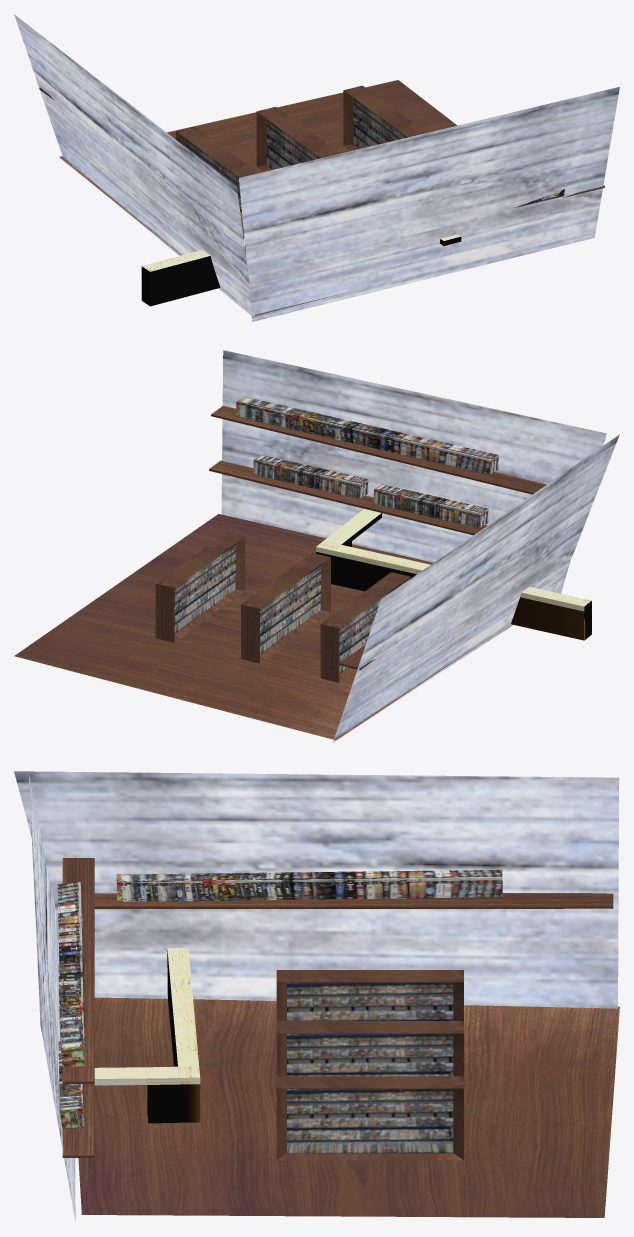
The model's file is GameStore.glb.
The picture shows the model from 3 angles, top to bottom: view 1: azimuth 30°, elevation 25°; view 2: azimuth 150°, elevation 25°; view 3: azimuth 270°, elevation 25°; orthographic projection. The views are drawn at different scales.
Parts seen in each view (by area): view 1: Plane.002, Plane.001, Plane, Cube.007, Shelf.004, Shelf.003, Inside.010, Inside.007, Shelf.002, Inside.006; view 2: Plane.002, Plane, Plane.001, Cube.007, Cube.005, Shelf.004, Shelf.003, Cube.006, Inside.010, Inside.007, Shelf.002, Cube.004 (+3 smaller); view 3: Plane.001, Plane, Cube.001, Inside.009, Inside.008, Cube.007, Inside.001, Cube, Plane.002, Shelf.004, Cube.005, Cube.006 (+4 smaller).
Boxes of the visible parts, box(x1,y1,x2,y2) form: Plane.002: box(239, 87, 619, 321); Plane.001: box(14, 14, 251, 315); Plane: box(59, 80, 456, 315); Cube.007: box(141, 234, 461, 306); Shelf.004: box(343, 85, 426, 150); Shelf.003: box(256, 106, 339, 171); Inside.010: box(353, 98, 407, 148); Inside.007: box(266, 119, 320, 169); Shelf.002: box(176, 126, 258, 177); Inside.006: box(185, 138, 241, 205); Plane.002: box(221, 350, 606, 593); Plane: box(14, 514, 500, 740); Plane.001: box(333, 434, 619, 742); Cube.007: box(316, 509, 591, 640); Cube.005: box(236, 396, 498, 474); Shelf.004: box(155, 532, 245, 642); Shelf.003: box(241, 552, 330, 663); Cube.006: box(211, 405, 546, 494); Inside.010: box(174, 544, 235, 633); Inside.007: box(260, 564, 320, 654); Shelf.002: box(320, 572, 410, 682); Cube.004: box(253, 455, 368, 498); Plane.001: box(14, 771, 619, 1008); Plane: box(78, 997, 619, 1217); Cube.001: box(116, 869, 502, 901); Inside.009: box(287, 1089, 453, 1153); Inside.008: box(287, 1034, 453, 1076); Cube.007: box(94, 948, 200, 1123); Inside.001: box(287, 982, 453, 1020); Cube: box(94, 893, 613, 908); Plane.002: box(28, 773, 75, 1221); Shelf.004: box(276, 1076, 463, 1160); Cube.005: box(57, 882, 85, 1067); Cube.006: box(62, 858, 94, 1083).
Size of the model in its own units: 25.58 by 9.5 by 24.44.
Materials: 14 (14 with a texture image).
